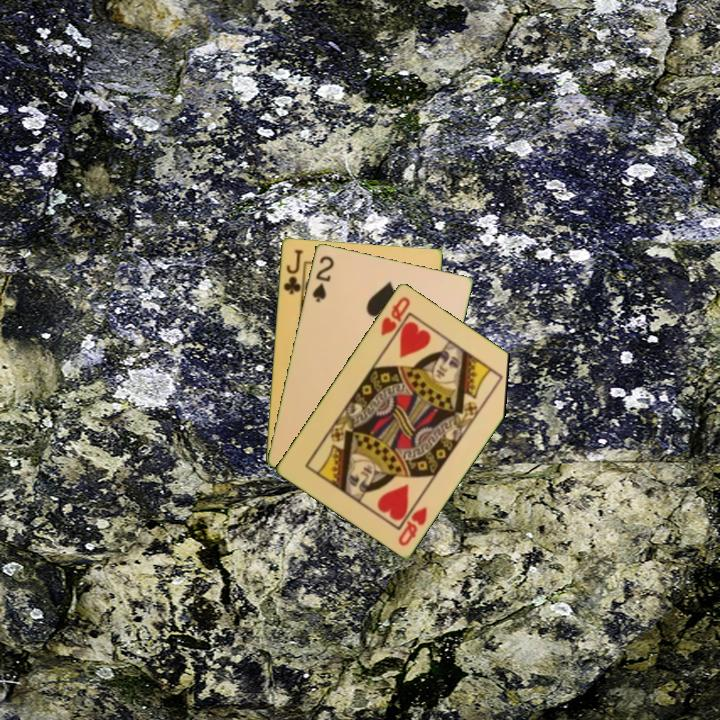2s: (309, 252, 337, 305)
Jc: (280, 246, 305, 297)
Qh: (377, 292, 413, 338), (394, 503, 430, 549)
